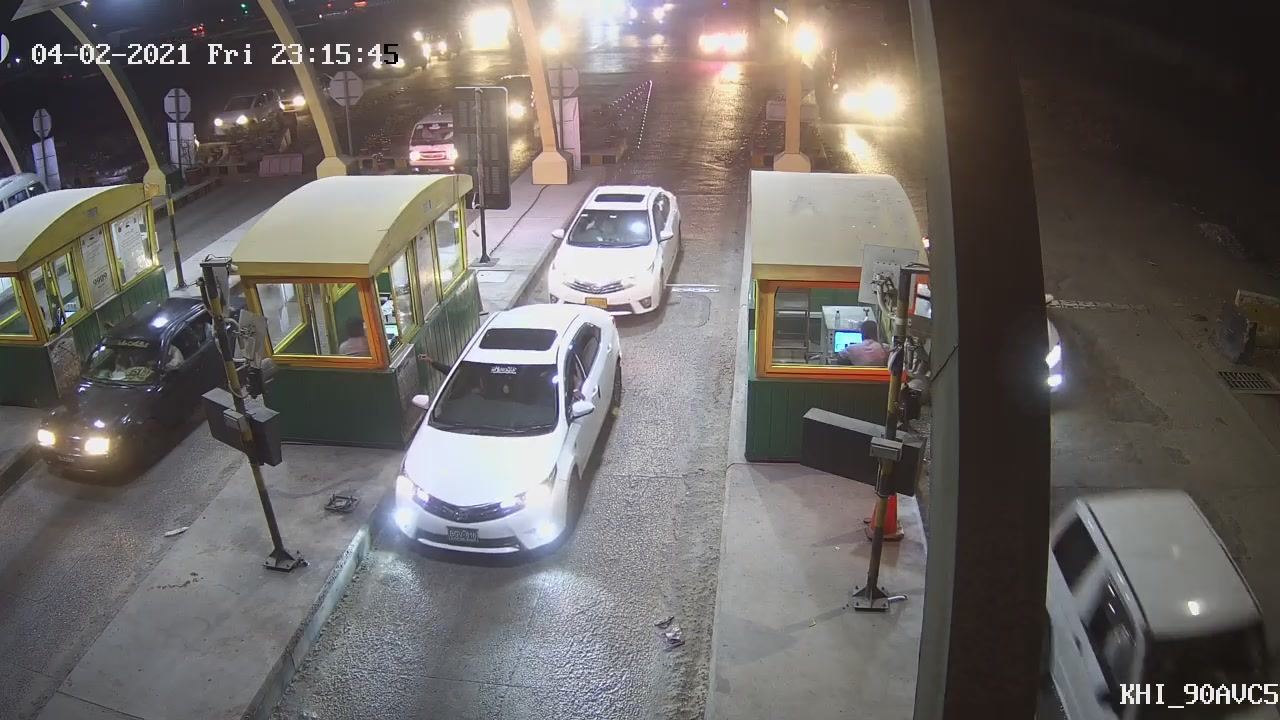F1: (386, 302, 624, 561)
